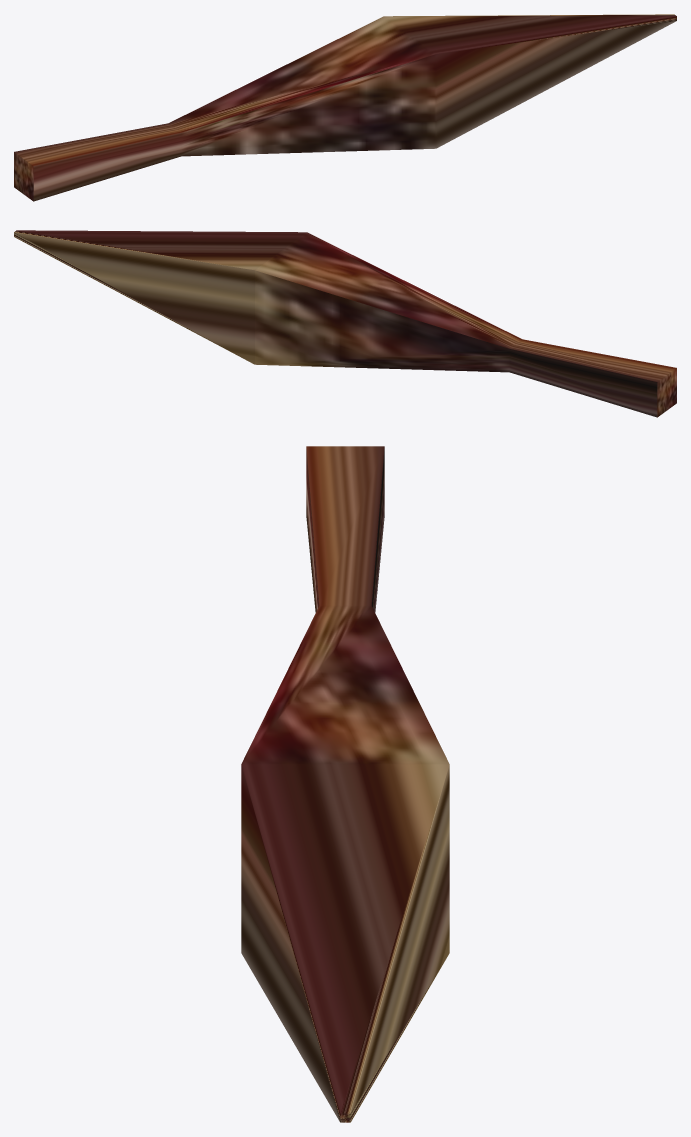
The model's file is mimita-rocket-model-v1.glb.
3 renders of one model, top to bottom at view 1: azimuth 30°, elevation 25°; view 2: azimuth 150°, elevation 25°; view 3: azimuth 270°, elevation 25°, orthographic. The views are drawn at different scales.
Visible parts, largest first — view 1: Cube.7673; view 2: Cube.7673; view 3: Cube.7673.
Part boxes in pixels (box(x1,y1,x2,y2)): Cube.7673: box(14, 14, 676, 201); Cube.7673: box(14, 230, 676, 417); Cube.7673: box(241, 446, 449, 1122).
Size of the model in its own units: 3.64 by 0.5035 by 0.5035.
Materials: 1 (1 with a texture image).
